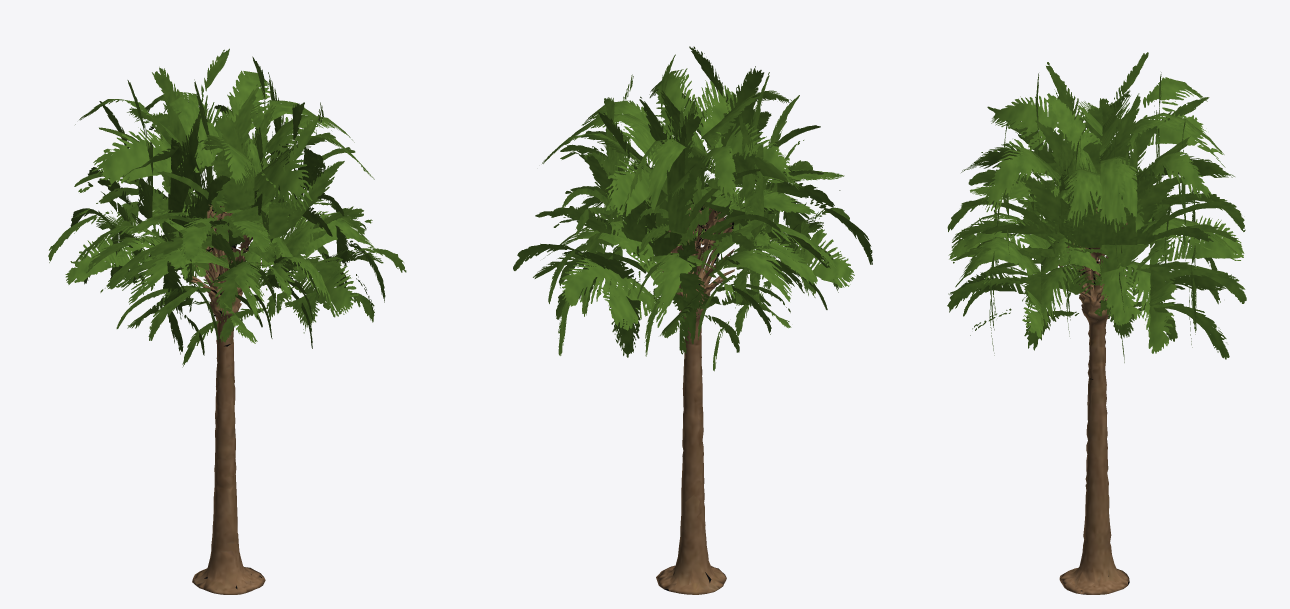
File: palm-lean-near.glb
3 views of the same model, side by side, from view 1: azimuth 30°, elevation 25°; view 2: azimuth 150°, elevation 25°; view 3: azimuth 270°, elevation 25° (orthographic). The views are drawn at different scales.
Parts seen in each view (by area): view 1: Foliage, Wood; view 2: Foliage, Wood; view 3: Foliage, Wood.
Part boxes in pixels (x1,y1,x2,y2): Foliage: (48, 48, 406, 367); Wood: (190, 204, 265, 594); Foliage: (513, 46, 872, 371); Wood: (655, 203, 734, 594); Foliage: (947, 52, 1246, 362); Wood: (1058, 208, 1129, 594).
Size of the model in its own units: 6.94 by 12.24 by 7.54.
2 materials, 2 textured.
